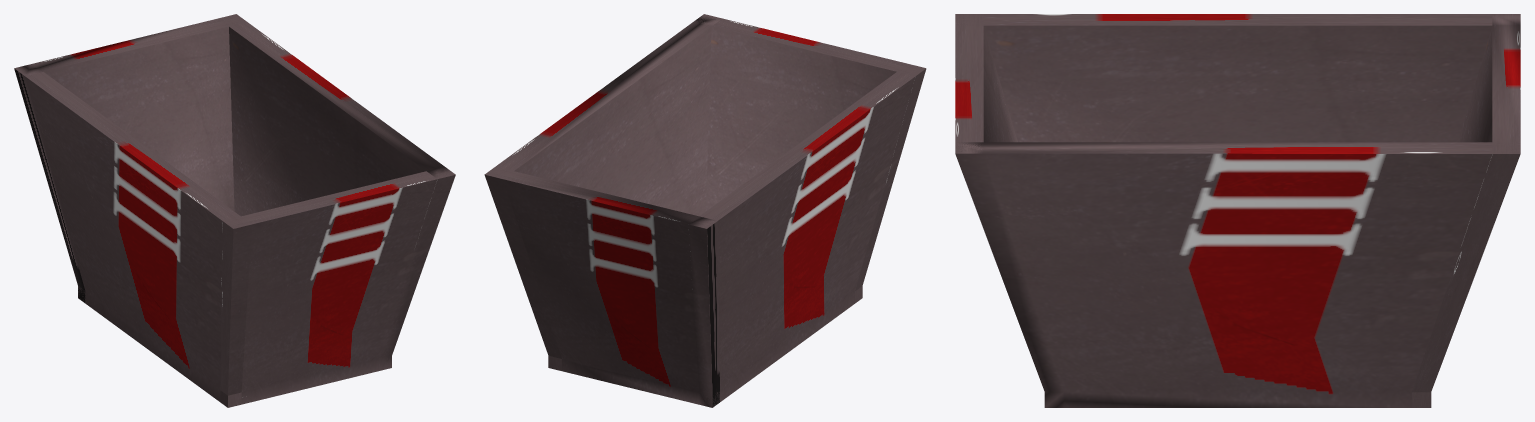
The model's file is Minecart.obj.
3 renders of one model, left to right at view 1: azimuth 30°, elevation 25°; view 2: azimuth 150°, elevation 25°; view 3: azimuth 270°, elevation 25°, orthographic. The views are drawn at different scales.
Visible parts, largest first — view 1: pasted__pasted__polySurface2 pasted__group6 group4; view 2: pasted__pasted__polySurface2 pasted__group6 group4; view 3: pasted__pasted__polySurface2 pasted__group6 group4.
Part boxes in pixels (x1,y1,x2,y2): pasted__pasted__polySurface2 pasted__group6 group4: (14, 14, 455, 407); pasted__pasted__polySurface2 pasted__group6 group4: (484, 14, 926, 407); pasted__pasted__polySurface2 pasted__group6 group4: (955, 14, 1520, 407).
Bounding box in the file's own units: 2.47 × 2.25 × 4.22.
